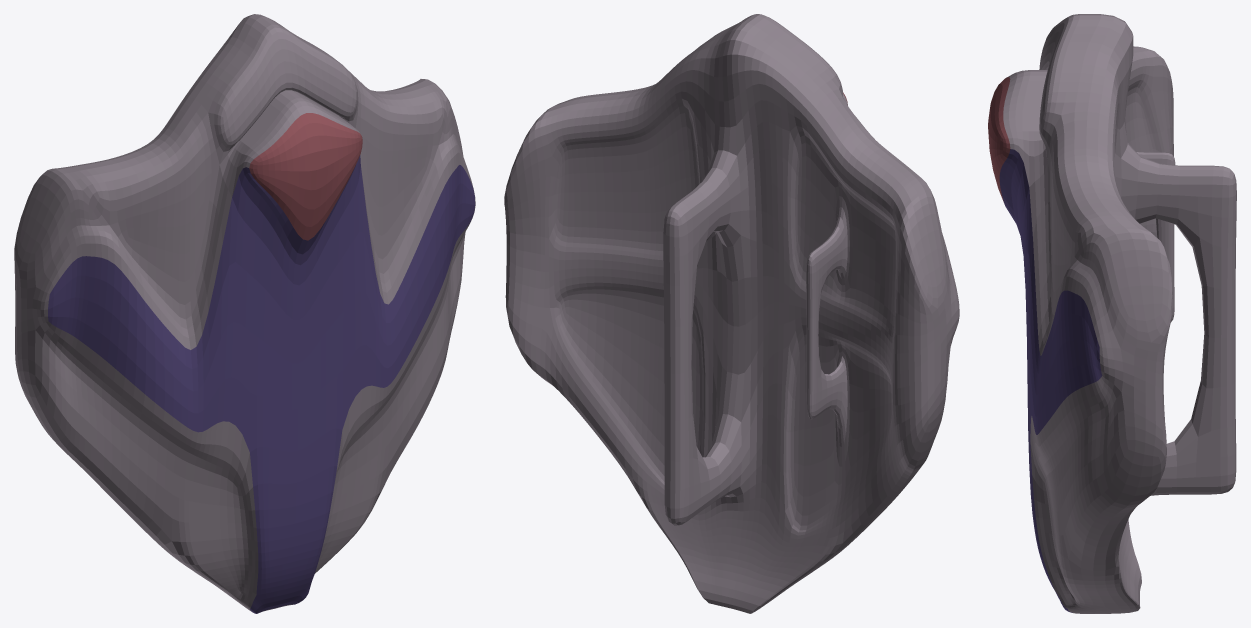
Rendered from seight(Sei shield non-flat).fbx.
3 views of the same model, side by side, from view 1: azimuth 30°, elevation 25°; view 2: azimuth 150°, elevation 25°; view 3: azimuth 270°, elevation 25° (orthographic). The views are drawn at different scales.
Visible parts, largest first — view 1: Cube; view 2: Cube; view 3: Cube.
Part boxes in pixels (<box>): Cube: <box>14,14,475,613</box>; Cube: <box>504,14,959,613</box>; Cube: <box>988,14,1236,613</box>.
Size of the model in its own units: 277 by 354 by 135.
